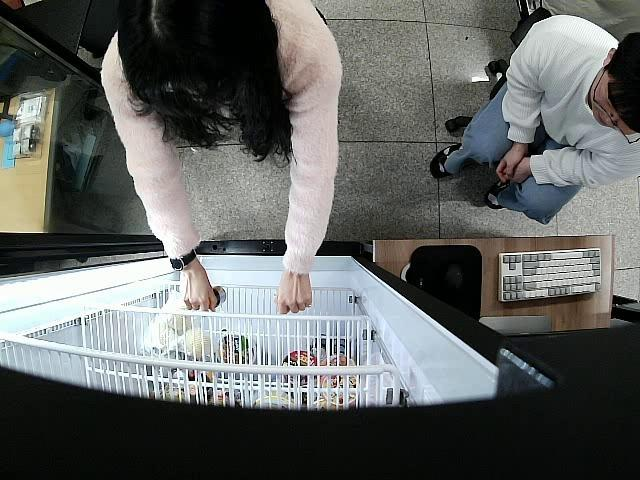17_vita500: (210, 285, 228, 306)
